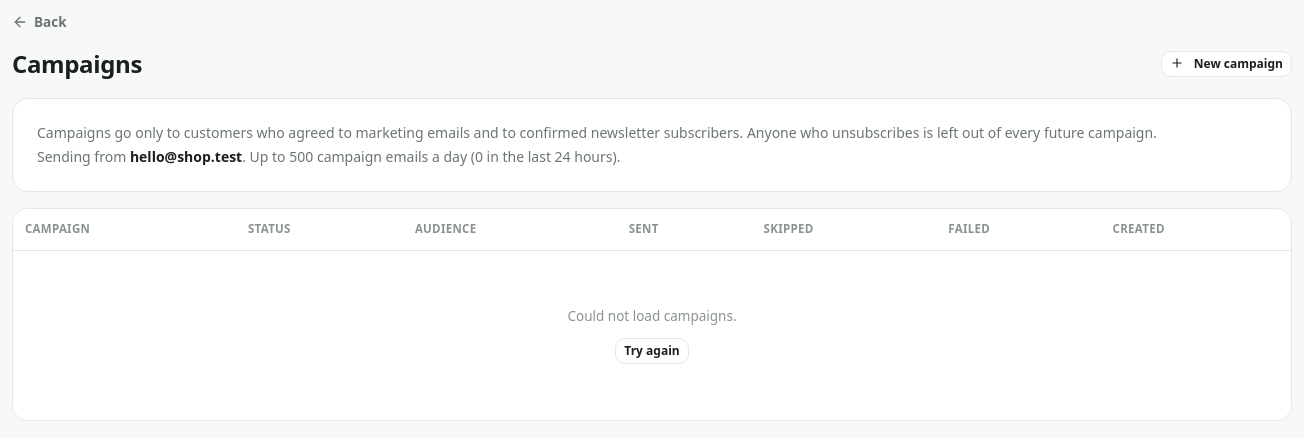
Scenario: Campaigns list › ends in a retryable error, never a permanent skeleton, when the request fails
Click the button "Try again".
click(652, 351)  # box 615,338 -> 689,364
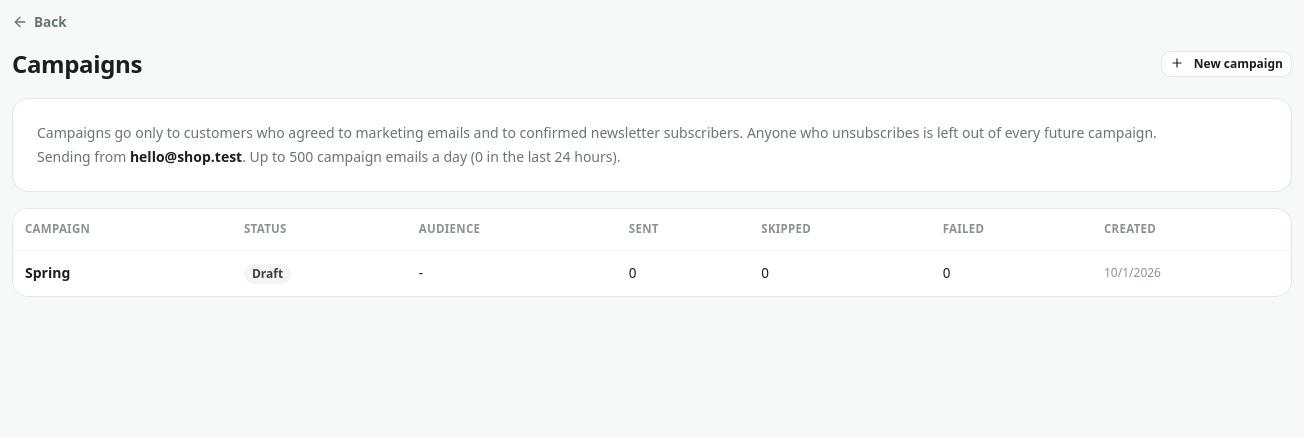
Check: the link "Spring" is shown, box 25,263 -> 70,282
